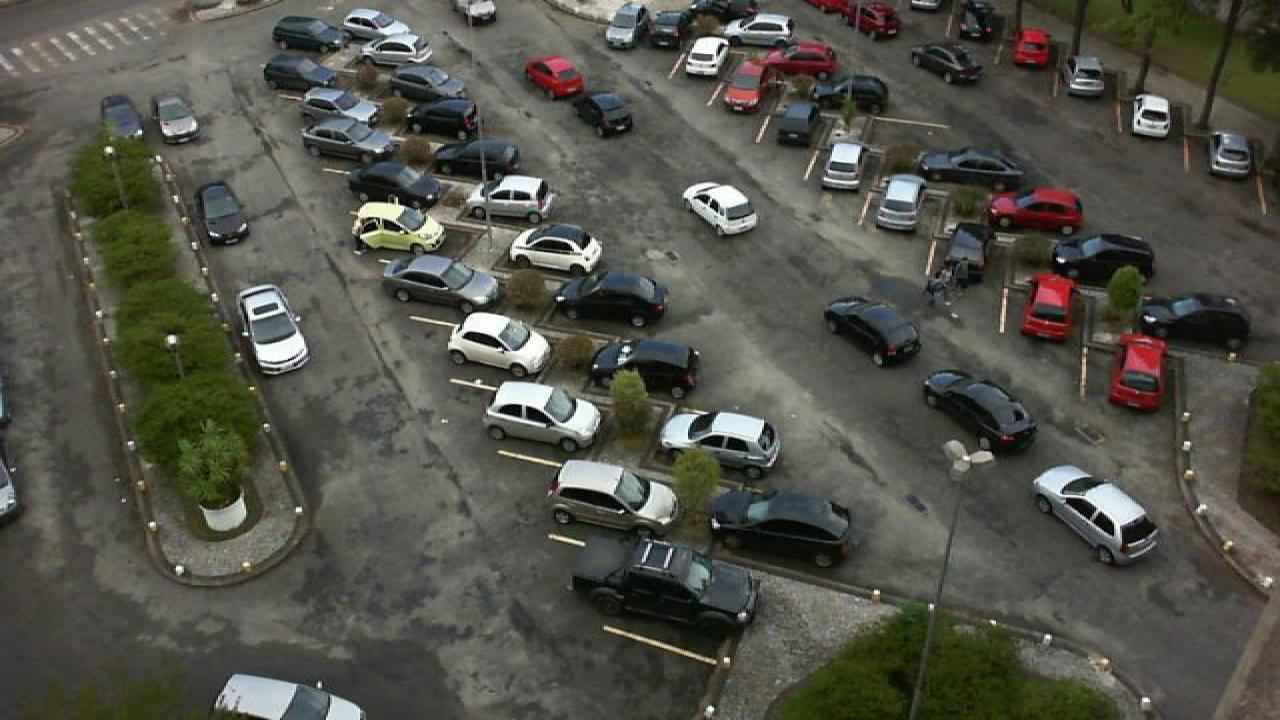Car: (566, 534, 764, 637), (1030, 462, 1160, 567), (704, 485, 856, 567), (546, 457, 682, 541), (920, 369, 1040, 456), (480, 379, 604, 452), (656, 408, 780, 480), (820, 295, 924, 367), (444, 309, 554, 377), (210, 673, 368, 720), (234, 281, 310, 376), (376, 251, 500, 308), (588, 336, 700, 399), (1136, 291, 1256, 349), (556, 267, 668, 328), (1048, 231, 1158, 289), (506, 220, 606, 278), (986, 186, 1088, 238), (342, 158, 442, 209), (352, 200, 448, 253), (916, 142, 1028, 185), (1108, 333, 1168, 413), (458, 173, 548, 225), (300, 116, 396, 162), (680, 180, 758, 236), (1016, 272, 1074, 342), (432, 135, 522, 179), (196, 180, 250, 248), (812, 72, 892, 115), (908, 40, 982, 86), (874, 173, 926, 234), (408, 96, 482, 138), (386, 63, 464, 102), (756, 40, 838, 77), (522, 54, 586, 100), (572, 90, 636, 136), (720, 12, 798, 49), (816, 139, 870, 192), (292, 88, 364, 127), (720, 57, 768, 115), (152, 90, 202, 144), (260, 52, 332, 89), (98, 93, 148, 145), (270, 14, 342, 50), (1206, 129, 1256, 180), (680, 35, 732, 82), (644, 1, 690, 54), (338, 7, 414, 38), (1128, 93, 1178, 140), (774, 100, 822, 146), (358, 36, 434, 65), (604, 2, 648, 51), (1064, 53, 1110, 98), (956, 0, 998, 43), (854, 0, 902, 37), (1010, 26, 1052, 68), (454, 0, 498, 26)
